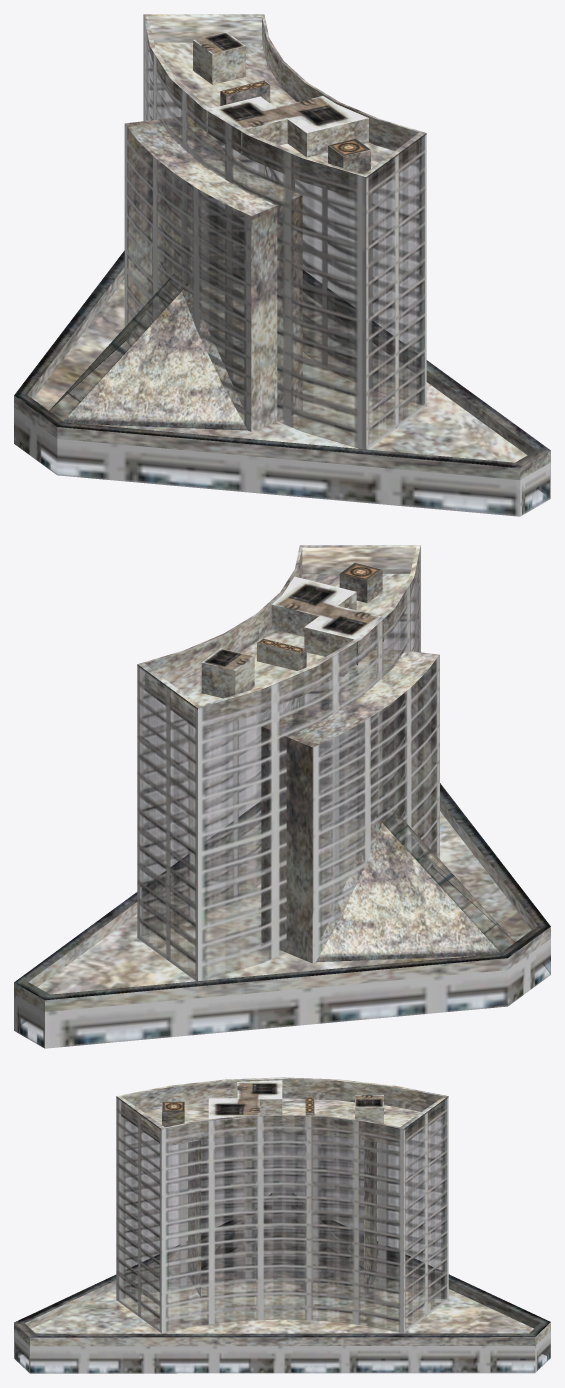
Rendered from Civilian - Commercial Building - Hotel 02 - CBHotel02.glb.
The picture shows the model from 3 angles, top to bottom: view 1: azimuth 30°, elevation 25°; view 2: azimuth 150°, elevation 25°; view 3: azimuth 270°, elevation 25°; orthographic projection. The views are drawn at different scales.
Visible parts, largest first — view 1: CBHOTEL02; view 2: CBHOTEL02; view 3: CBHOTEL02.
Part boxes in pixels (x1=…): CBHOTEL02: x1=14, y1=14, x2=550, y2=516; CBHOTEL02: x1=14, y1=545, x2=550, y2=1048; CBHOTEL02: x1=14, y1=1077, x2=550, y2=1373.
Bounding box in the file's own units: 87.97 × 76.33 × 158.
1 material, 1 textured.
